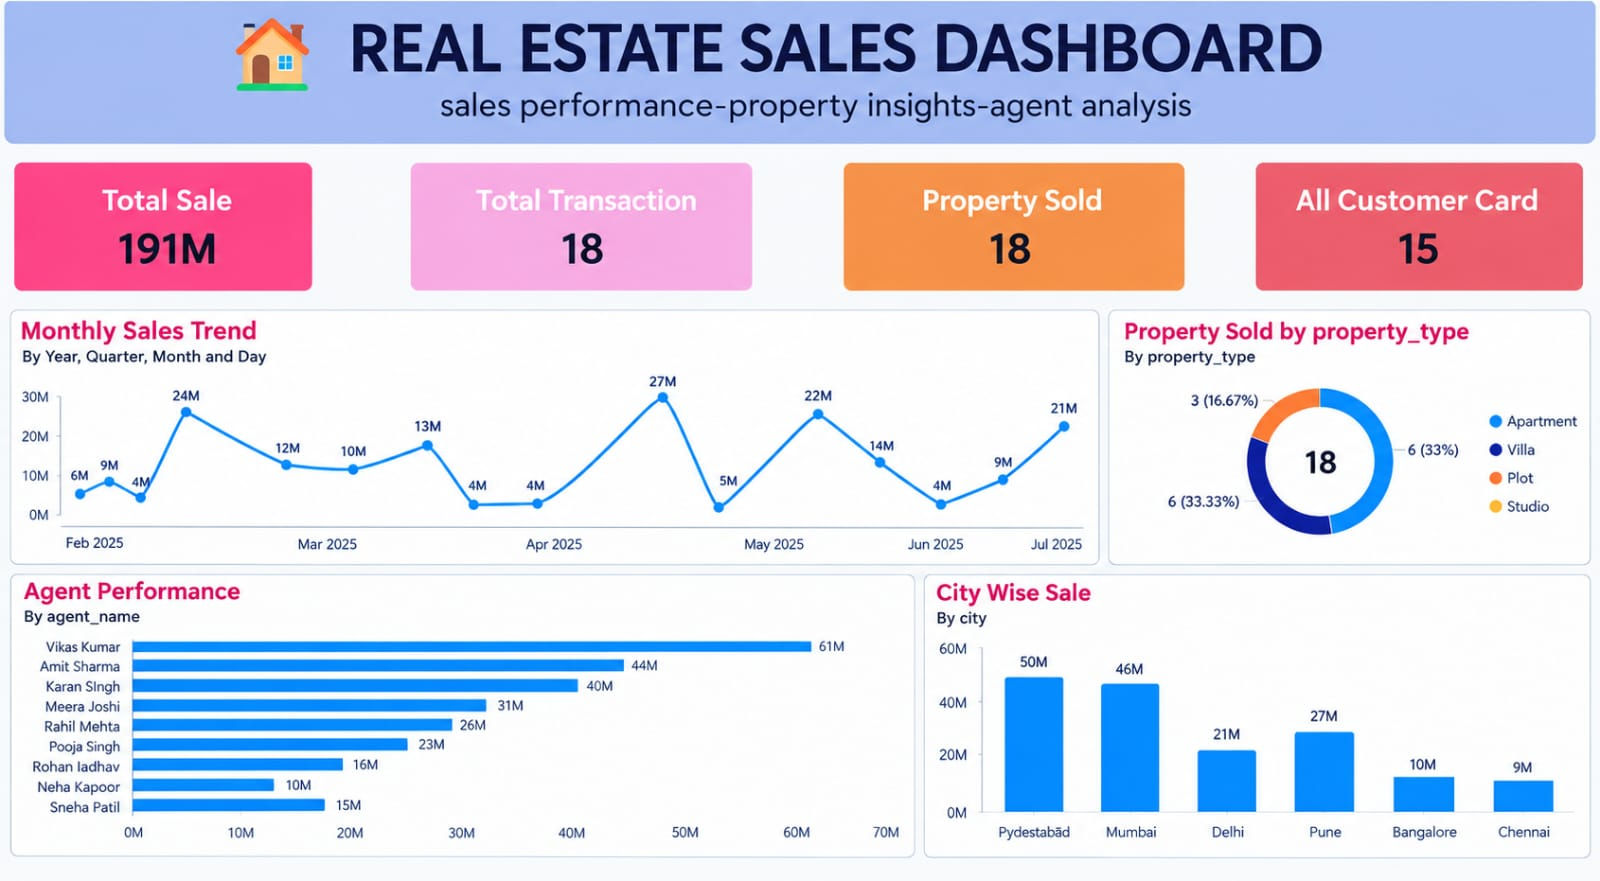

The page's visual inventory and layout, read from the dashboard file:
{"tool":"powerbi","page":{"name":"Page 1","canvas":[1920,1080],"ordinal":0},"visuals":[{"type":"textbox","box":[9.5,0,1911.1,183.7],"z":0},{"type":"cardVisual","fields":{"Data":["agent.total sale"]},"box":[33.4,219.5,316.7,183.3],"z":1000},{"type":"cardVisual","fields":{"Data":["agent.total transaction"]},"box":[515.4,219.5,317,183],"z":2000},{"type":"cardVisual","fields":{"Data":["agent.property sold"]},"box":[1014,219.5,317,183],"z":3000},{"type":"cardVisual","fields":{"Data":["agent.total customer card"]},"box":[1527,219.5,317,183],"z":4000},{"type":"lineChart","title":"Monthly Sales Trand","fields":{"Category":["transaction.transaction_date.Variation.Date Hierarchy.Year","transaction.transaction_date.Variation.Date Hierarchy.Quarter","transaction.transaction_date.Variation.Date Hierarchy.Month","transaction.transaction_date.Variation.Date Hierarchy.Day"],"Y":["Sum(transaction.sale_price)"]},"box":[0,424.7,1350.4,286.3],"z":5000},{"type":"clusteredBarChart","title":"Agent Performance","fields":{"Category":["agent.agent_name"],"Y":["Sum(properties.listing_price)"]},"box":[0,711,1130.9,369.8],"z":7000},{"type":"clusteredColumnChart","title":"City Wise Sale","fields":{"Category":["properties.city"],"Y":["Sum(transaction.sale_price)"]},"box":[1130.9,711,789.7,369.8],"z":8000},{"type":"donutChart","fields":{"Category":["properties.property_type"],"Y":["agent.Property Sold"]},"box":[1350.4,424.7,570.2,286.3],"z":8001}]}

Visuals, with their boxes in screenshot pixels (x1, y1, x2, y2), scaled from the page's 1920x1080 canvas onto the 1600x881 screenshot:
textbox: left=8, top=0, right=1599, bottom=150
cardVisual - agent.total sale: left=28, top=179, right=292, bottom=329
cardVisual - agent.total transaction: left=430, top=179, right=694, bottom=328
cardVisual - agent.property sold: left=845, top=179, right=1109, bottom=328
cardVisual - agent.total customer card: left=1272, top=179, right=1537, bottom=328
"Monthly Sales Trand" lineChart: left=0, top=346, right=1125, bottom=580
"Agent Performance" clusteredBarChart: left=0, top=580, right=942, bottom=880
"City Wise Sale" clusteredColumnChart: left=942, top=580, right=1599, bottom=880
donutChart - properties.property_type x agent.Property Sold: left=1125, top=346, right=1599, bottom=580
